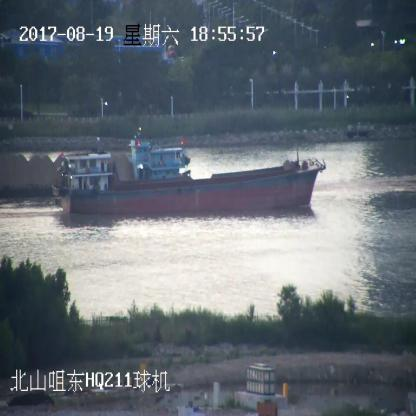Bulk Carrier: (53, 157, 326, 214)
